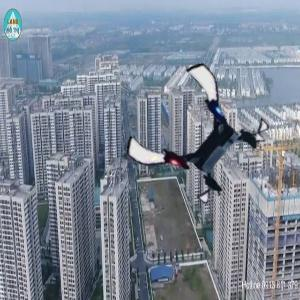drone: (136, 77, 259, 200)
